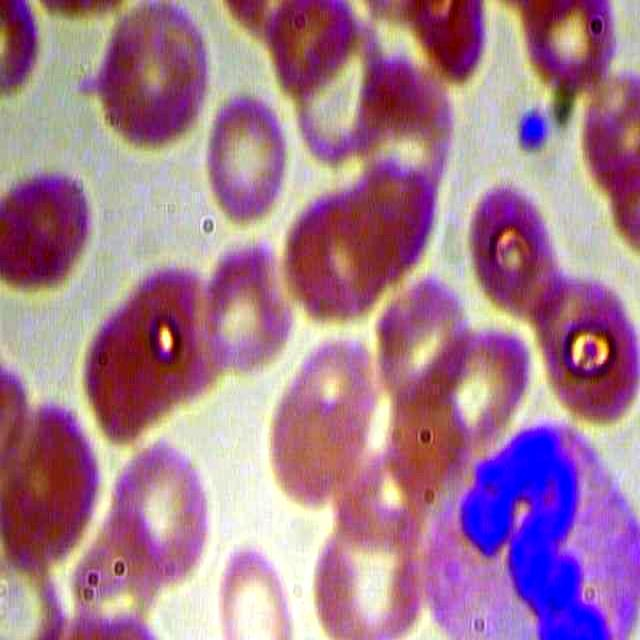Platelets: (512, 105, 550, 159)
RBC: (80, 1, 214, 163), (521, 264, 640, 425), (101, 432, 226, 583), (306, 504, 429, 640), (348, 62, 461, 206), (195, 228, 292, 383), (374, 268, 475, 404), (467, 180, 566, 315), (199, 92, 291, 231), (1, 156, 92, 295), (205, 538, 304, 638)
WBC: (424, 410, 639, 640)
